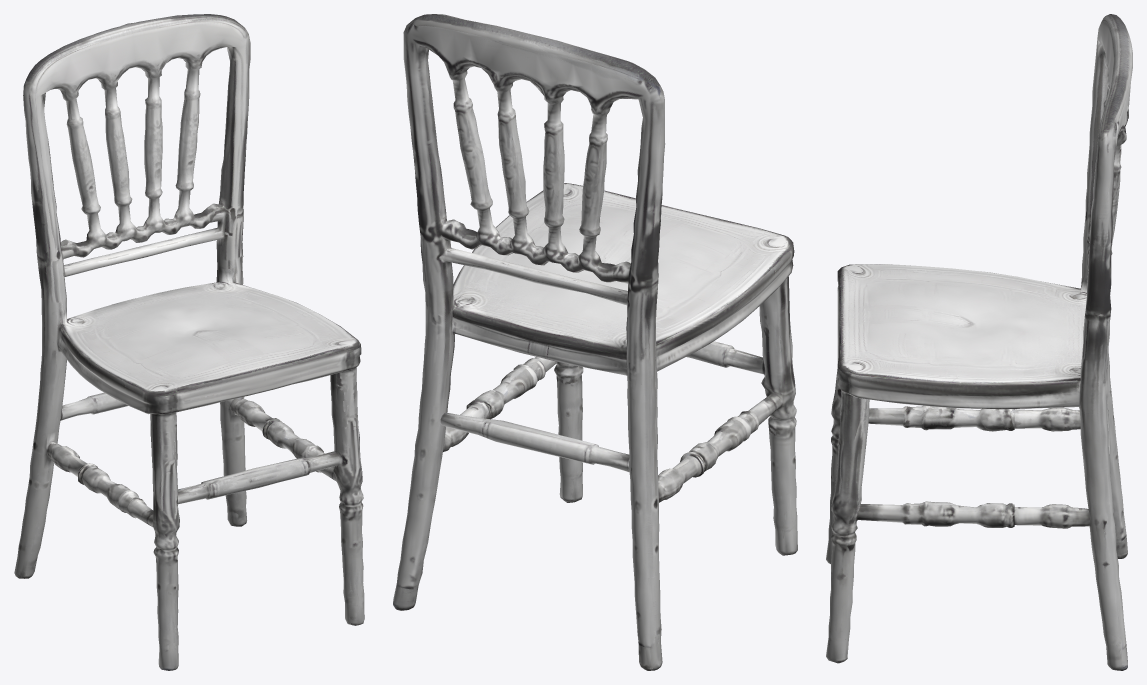
The model's file is CHATEAU_Resin_Chair_0403042500_texture.glb.
The picture shows the model from 3 angles, left to right: view 1: azimuth 30°, elevation 25°; view 2: azimuth 150°, elevation 25°; view 3: azimuth 270°, elevation 25°; orthographic projection. The views are drawn at different scales.
Parts seen in each view (by area): view 1: Mesh_0; view 2: Mesh_0; view 3: Mesh_0.
Boxes of the visible parts, x1,y1,x2,y2 form: Mesh_0: (14,14,364,670); Mesh_0: (393,14,797,670); Mesh_0: (826,14,1132,670).
Bounding box in the file's own units: 0.3722 × 0.8128 × 0.4022.
Materials: 1 (1 with a texture image).
